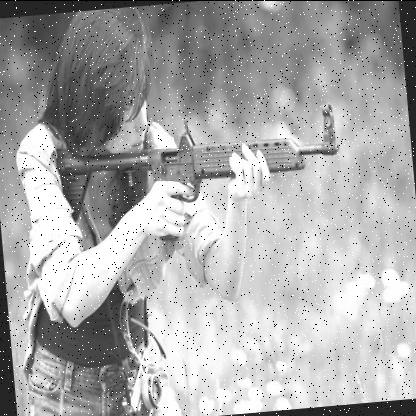rifle: (50, 102, 353, 255)
